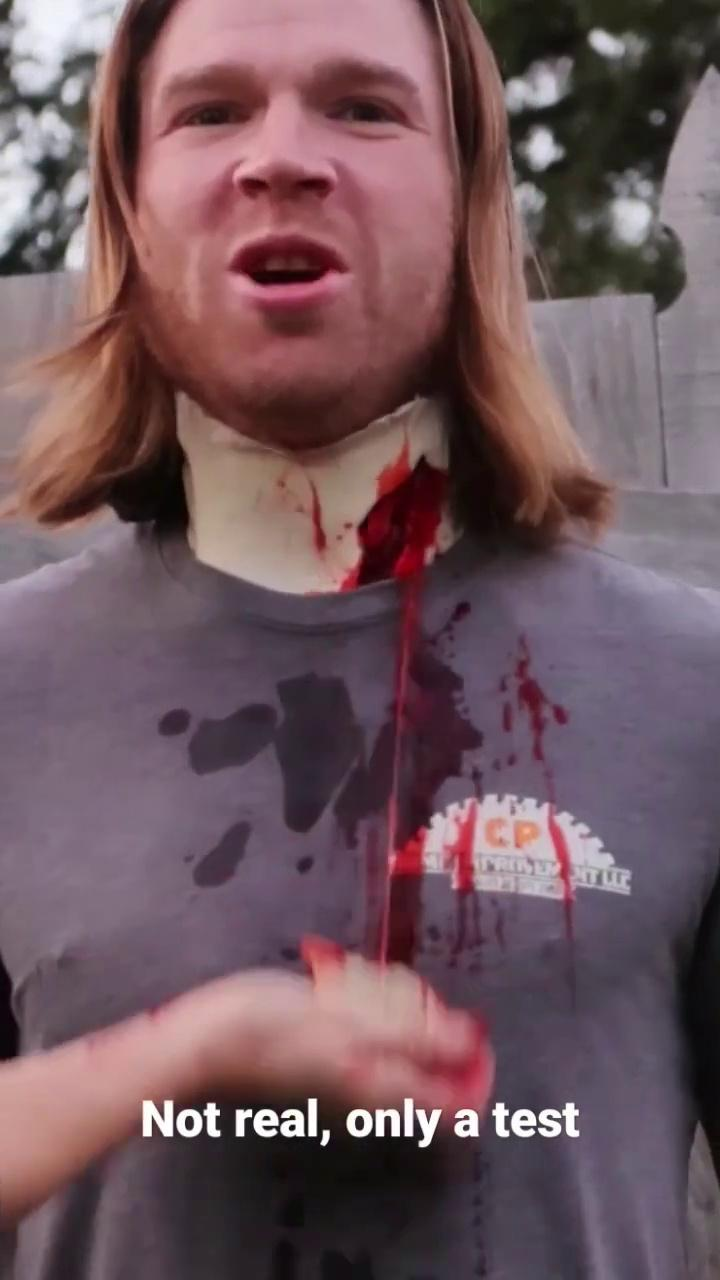Fire: (334, 441, 482, 966), (502, 637, 577, 1006), (269, 461, 359, 590), (423, 1005, 494, 1112), (450, 799, 481, 966), (299, 936, 346, 984), (441, 601, 469, 632)
